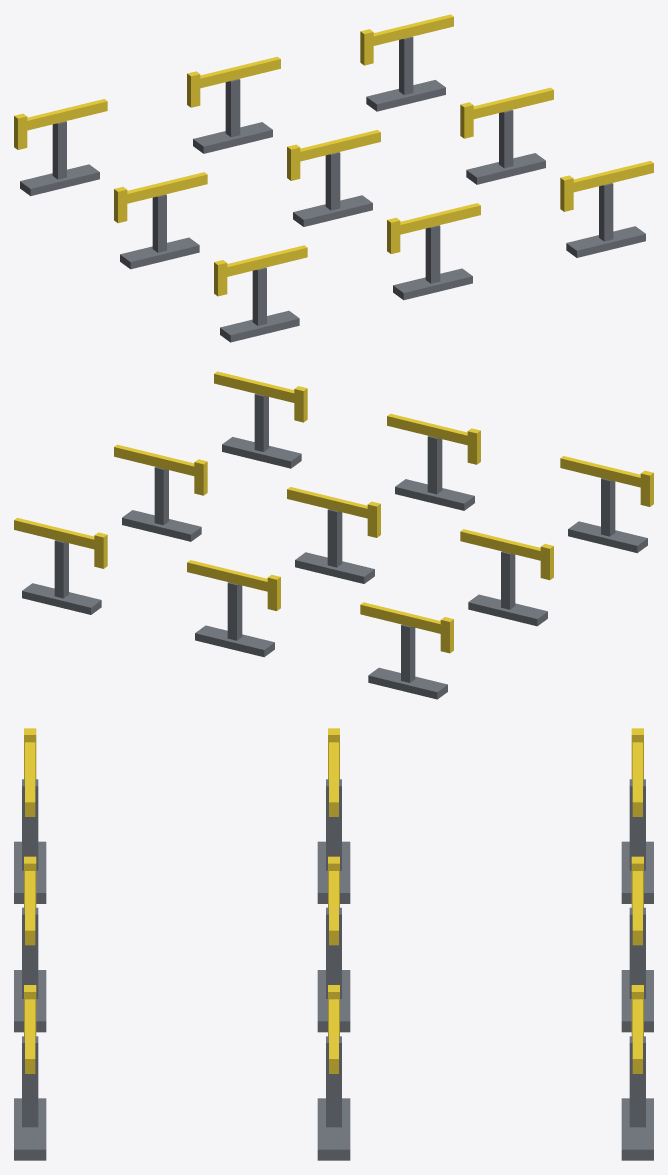
Rendered from far.fbx.
The picture shows the model from 3 angles, top to bottom: view 1: azimuth 30°, elevation 25°; view 2: azimuth 150°, elevation 25°; view 3: azimuth 270°, elevation 25°; orthographic projection. The views are drawn at different scales.
Parts seen in each view (by area): view 1: a1017/0/far; view 2: a1017/0/far; view 3: a1017/0/far.
Part boxes in pixels (bbox=[...]): a1017/0/far: bbox=[14, 14, 653, 342]; a1017/0/far: bbox=[14, 371, 653, 699]; a1017/0/far: bbox=[14, 728, 653, 1160].
Bounding box in the file's own units: 37.8 × 6.4 × 31.6.
